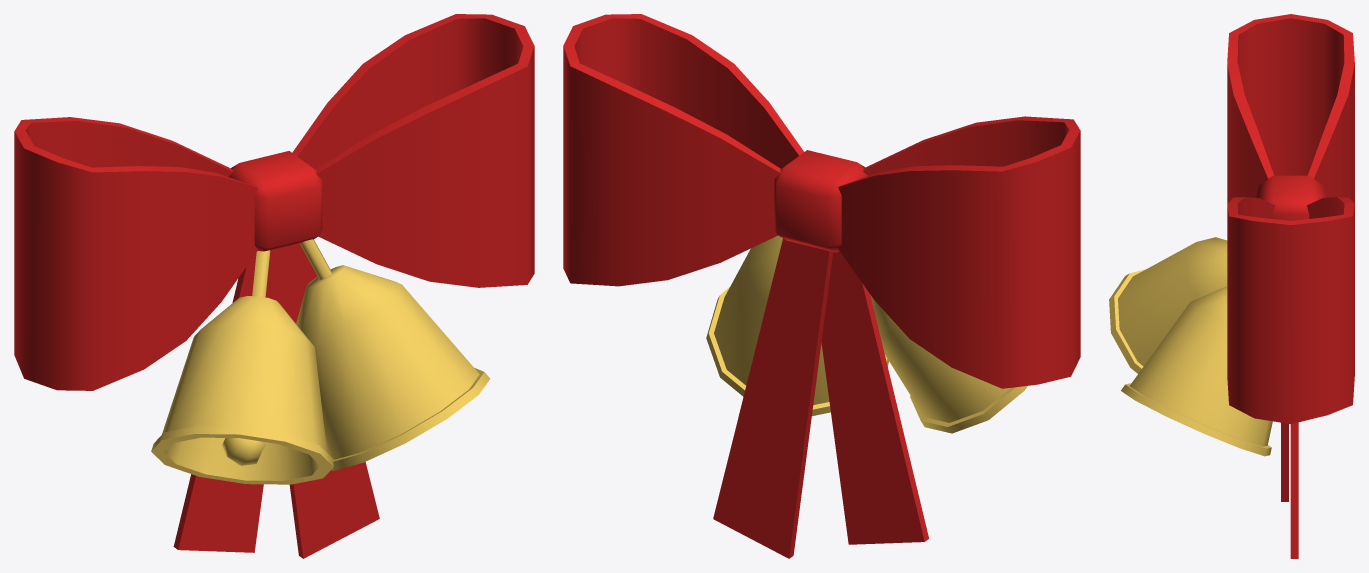
File: Christmas_Bells_with_Bow_1_231109.glb
3 views of the same model, side by side, from view 1: azimuth 30°, elevation 25°; view 2: azimuth 150°, elevation 25°; view 3: azimuth 270°, elevation 25° (orthographic). The views are drawn at different scales.
Parts seen in each view (by area): view 1: Bells_with_Bow_1; view 2: Bells_with_Bow_1; view 3: Bells_with_Bow_1.
Part boxes in pixels (x1,y1,x2,y2): Bells_with_Bow_1: (14,14,534,558); Bells_with_Bow_1: (563,14,1080,558); Bells_with_Bow_1: (1109,14,1354,558).
Bounding box in the file's own units: 0.8502 × 0.7765 × 0.4182.
1 material, 1 textured.
